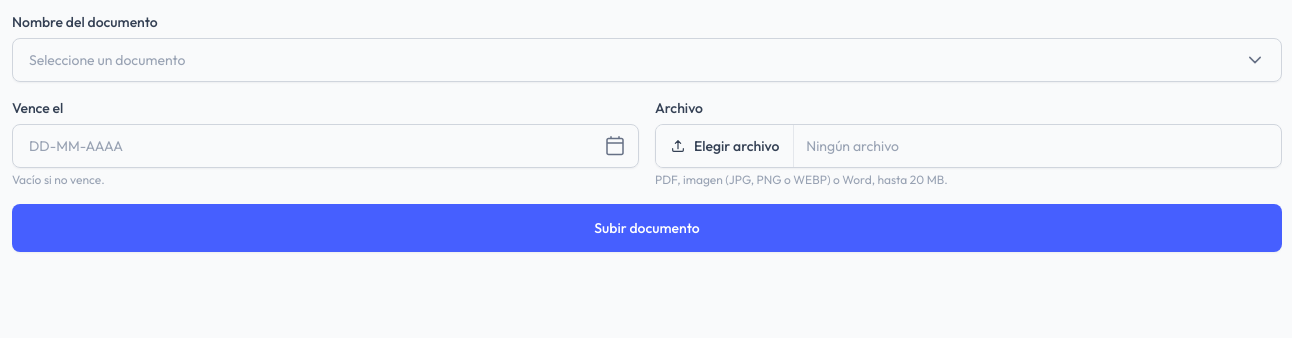
Scenario: Agregar documento: nombre de la lista fija › sin elegir el documento, lo pide
Click the button "Subir documento": click(647, 228) [12, 204, 1282, 252]
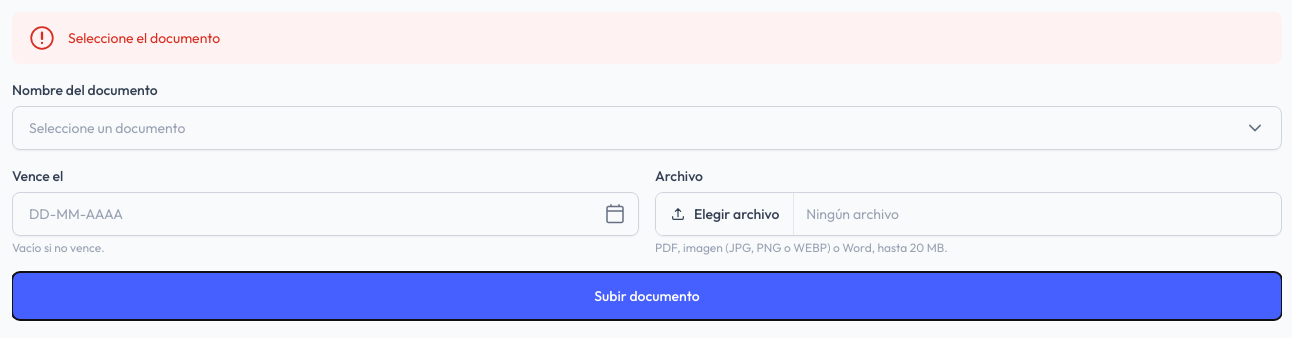
Expected: the text "Seleccione el documento" is shown, [68, 28, 220, 48]
